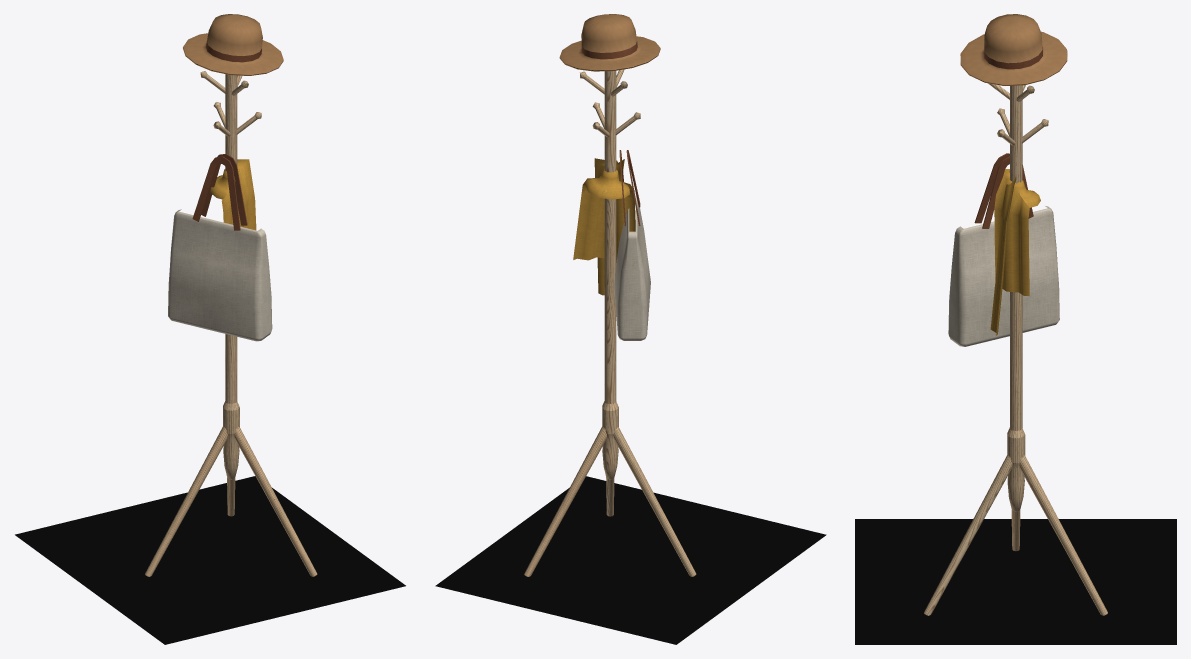
File: coat_stand.glb
The picture shows the model from 3 angles, left to right: view 1: azimuth 30°, elevation 25°; view 2: azimuth 150°, elevation 25°; view 3: azimuth 270°, elevation 25°; orthographic projection. The views are drawn at different scales.
Visible parts, largest first — view 1: coat_stand_Shadow, coat_stand_LOD0; view 2: coat_stand_Shadow, coat_stand_LOD0; view 3: coat_stand_Shadow, coat_stand_LOD0.
Part boxes in pixels (x1=…): coat_stand_Shadow: x1=15, y1=476, x2=405, y2=644; coat_stand_LOD0: x1=145, y1=14, x2=317, y2=576; coat_stand_Shadow: x1=435, y1=476, x2=826, y2=644; coat_stand_LOD0: x1=524, y1=14, x2=696, y2=576; coat_stand_Shadow: x1=855, y1=519, x2=1176, y2=644; coat_stand_LOD0: x1=924, y1=14, x2=1107, y2=615.
Size of what is drawn, in the model's own units: 0.8676 by 1.85 by 0.9368.
6 materials, 6 textured.
